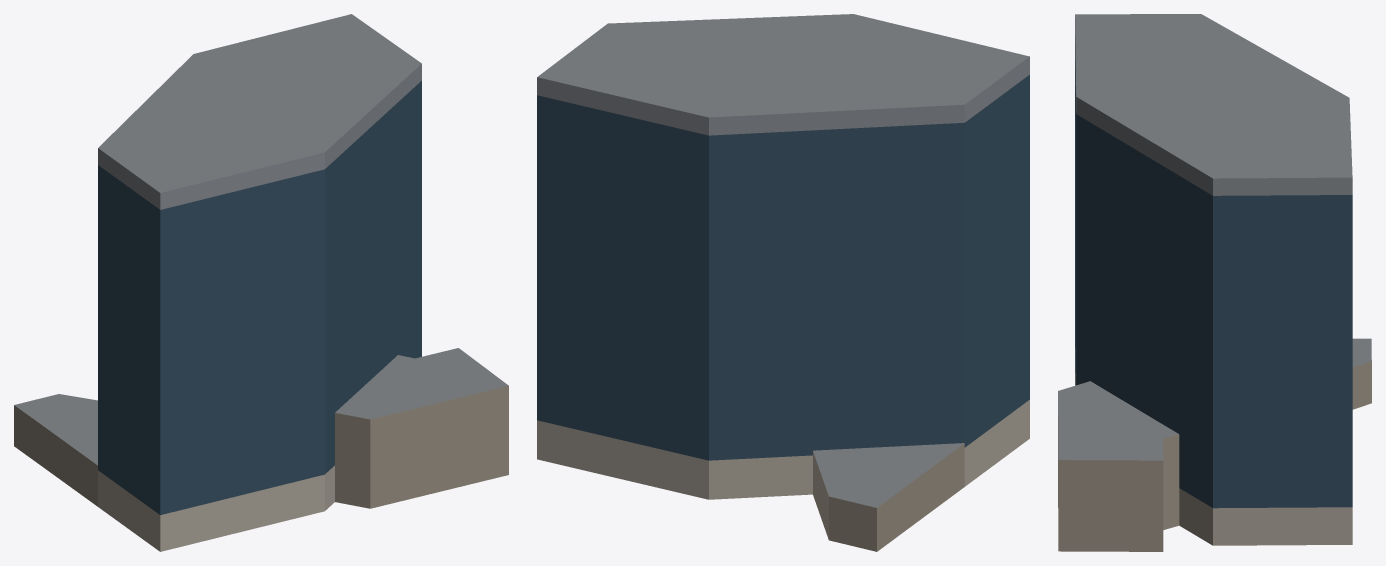
Rendered from bell_plaza.glb.
3 views of the same model, side by side, from view 1: azimuth 30°, elevation 25°; view 2: azimuth 150°, elevation 25°; view 3: azimuth 270°, elevation 25° (orthographic). The views are drawn at different scales.
Parts seen in each view (by area): view 1: Bell_Plaza; view 2: Bell_Plaza; view 3: Bell_Plaza.
Part boxes in pixels (bbox=[...]): Bell_Plaza: bbox=[14, 14, 508, 551]; Bell_Plaza: bbox=[537, 14, 1029, 551]; Bell_Plaza: bbox=[1058, 14, 1371, 551].
Bounding box in the file's own units: 63.46 × 63.5 × 49.16.
